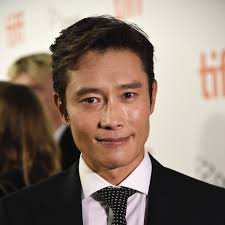asian_male: (71, 22, 156, 181)
